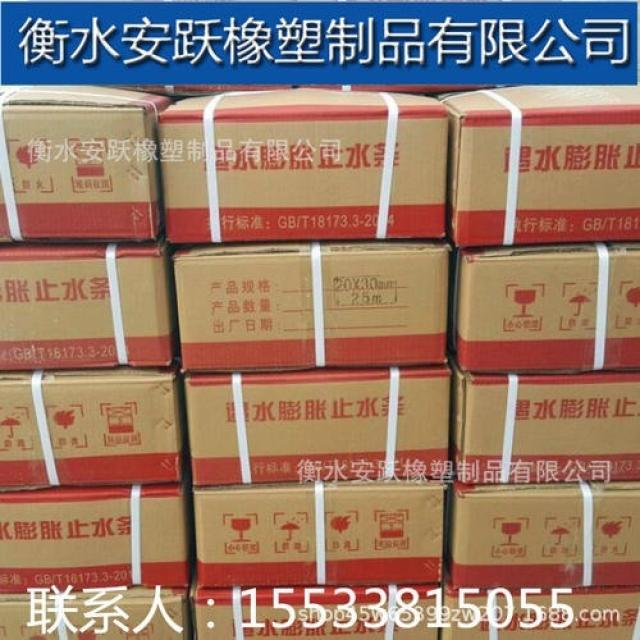box: (156, 86, 445, 243), (172, 243, 449, 370), (438, 83, 640, 247), (184, 365, 449, 485), (192, 479, 444, 588), (0, 84, 174, 241), (449, 244, 640, 370), (0, 367, 187, 490), (0, 244, 177, 371), (451, 366, 640, 484), (444, 480, 640, 589), (0, 484, 192, 594), (195, 586, 438, 640), (442, 585, 640, 640), (0, 588, 188, 640)
